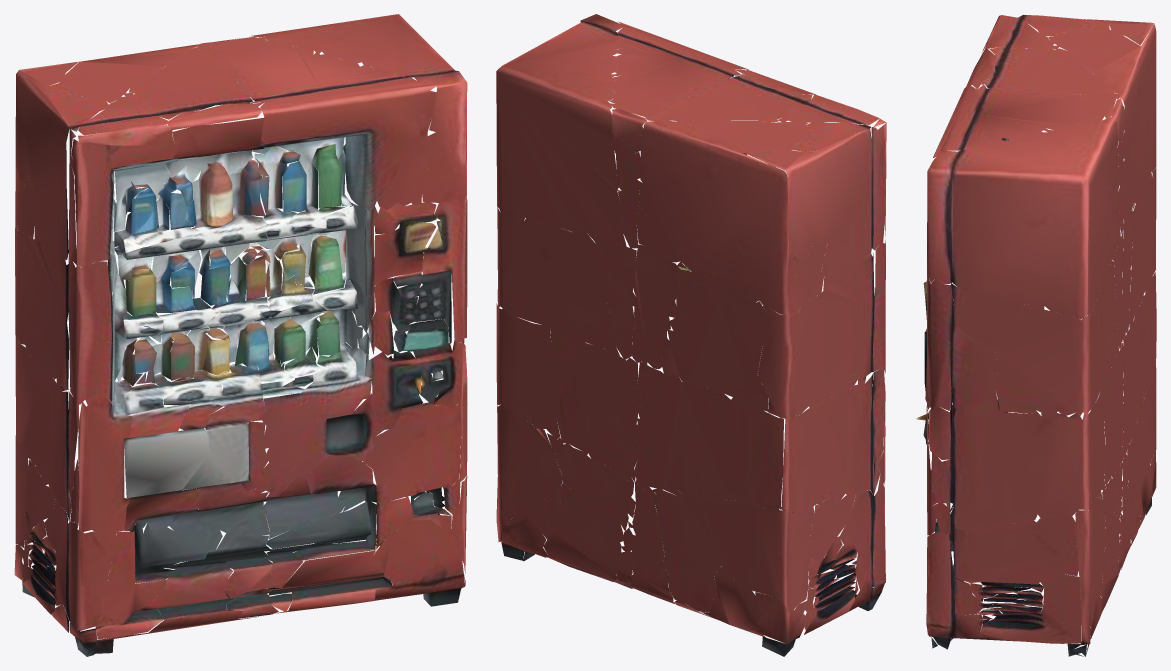
Rendered from prop04.glb.
3 views of the same model, side by side, from view 1: azimuth 30°, elevation 25°; view 2: azimuth 150°, elevation 25°; view 3: azimuth 270°, elevation 25° (orthographic). The views are drawn at different scales.
Parts seen in each view (by area): view 1: tripo_node_9c788f1e-71b4-41fd-a91e-5e53cc8698b2; view 2: tripo_node_9c788f1e-71b4-41fd-a91e-5e53cc8698b2; view 3: tripo_node_9c788f1e-71b4-41fd-a91e-5e53cc8698b2.
Part boxes in pixels (x1=…): tripo_node_9c788f1e-71b4-41fd-a91e-5e53cc8698b2: x1=14, y1=14, x2=467, y2=656; tripo_node_9c788f1e-71b4-41fd-a91e-5e53cc8698b2: x1=496, y1=14, x2=886, y2=656; tripo_node_9c788f1e-71b4-41fd-a91e-5e53cc8698b2: x1=916, y1=15, x2=1156, y2=656.
Size of the model in its own units: 0.7461 by 1 by 0.4532.
1 material, 1 textured.
